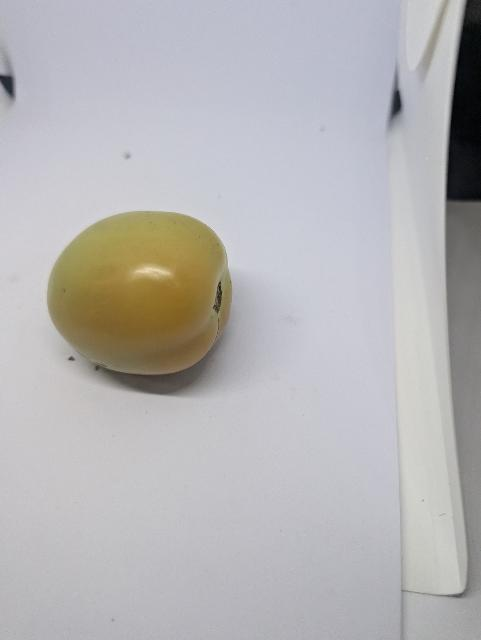breaker: (47, 211, 232, 375)
